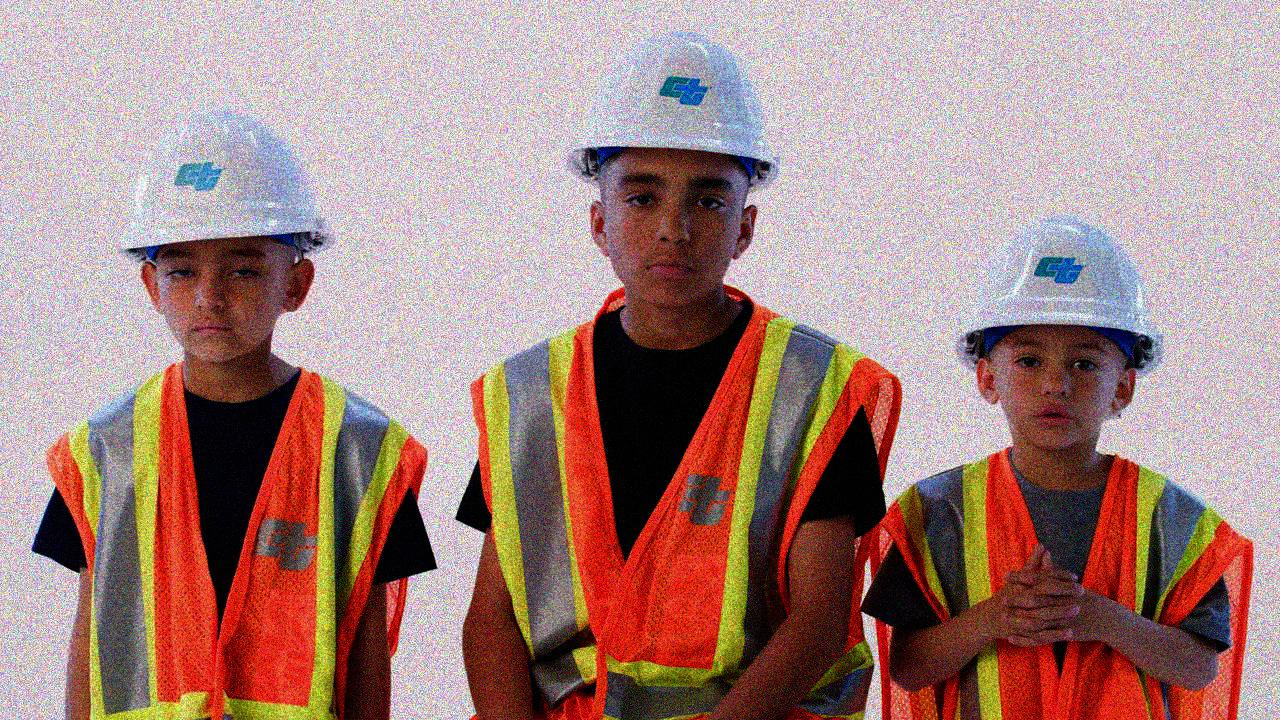helmet: (117, 102, 338, 368), (564, 32, 781, 301), (955, 214, 1159, 447)
